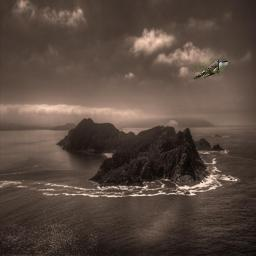Cuckoo: (192, 59, 230, 79)
